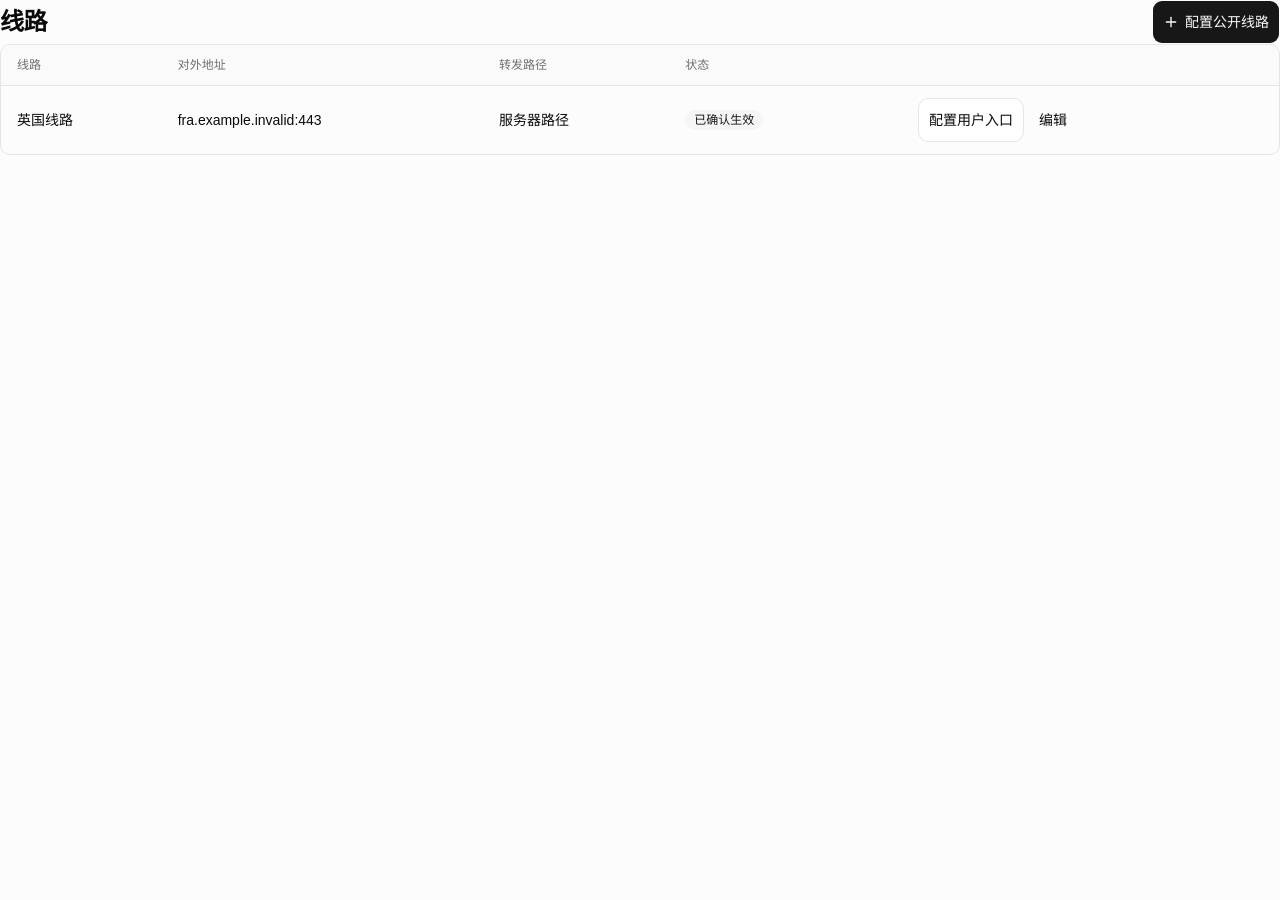
Test case: opens exit replacement from the existing route and restores that context on cancel without revealing intent
The image size is (1280, 900).
Click the button "英国线路": x=45, y=120 [17,110,73,130]
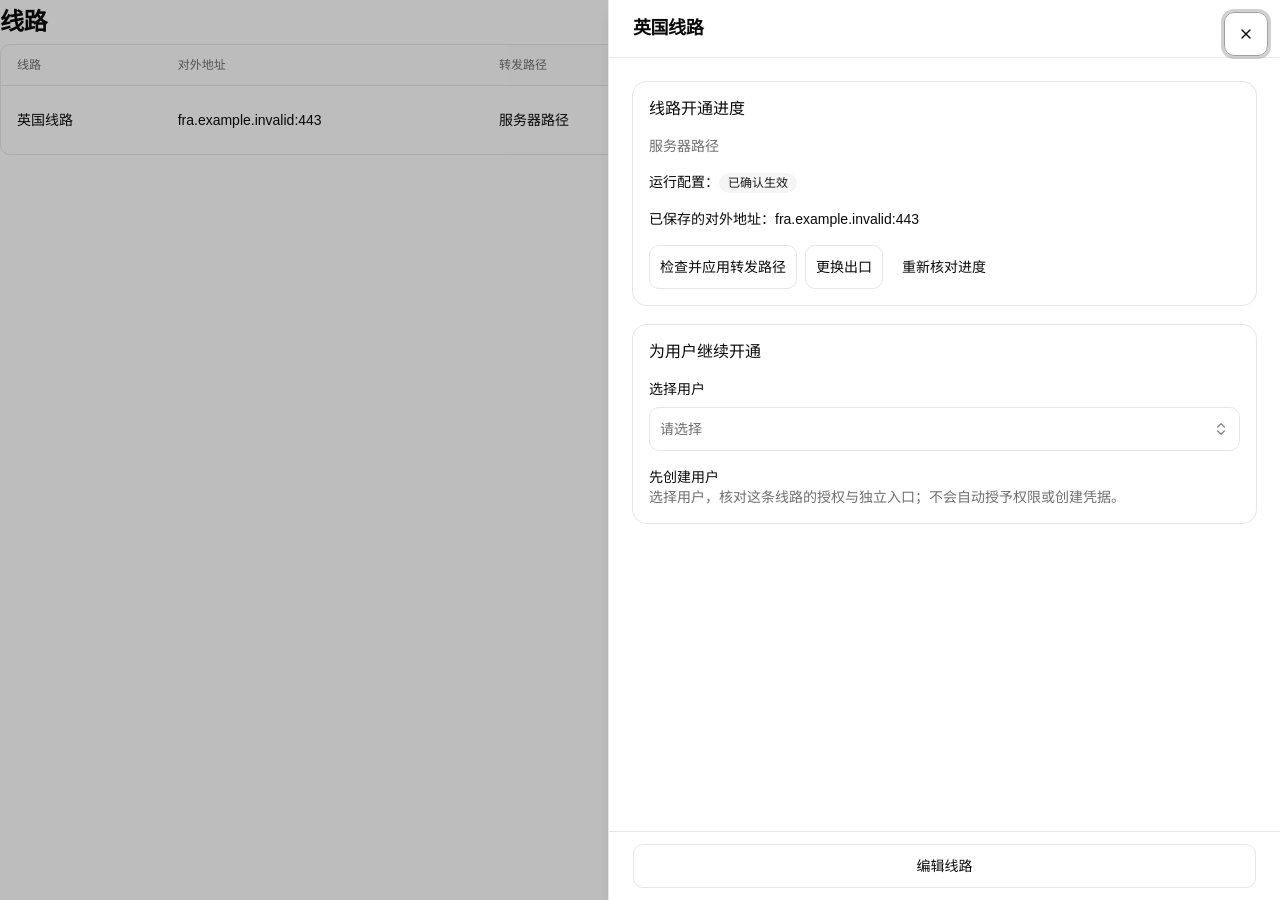
Click the button "更换出口": x=844, y=267 [805,245,883,289]
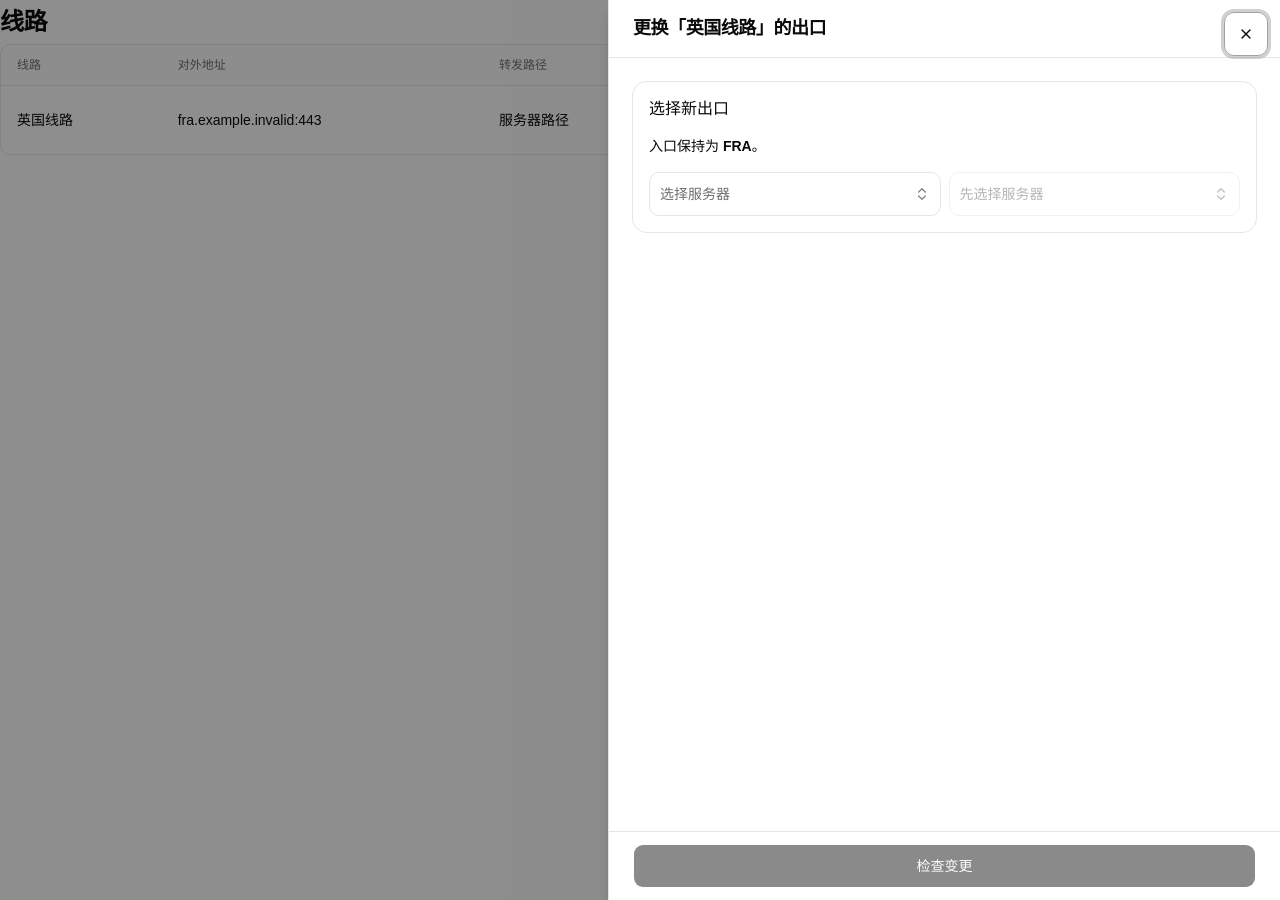
Click the button named "关闭": x=1246, y=34 [1224,12,1268,56]
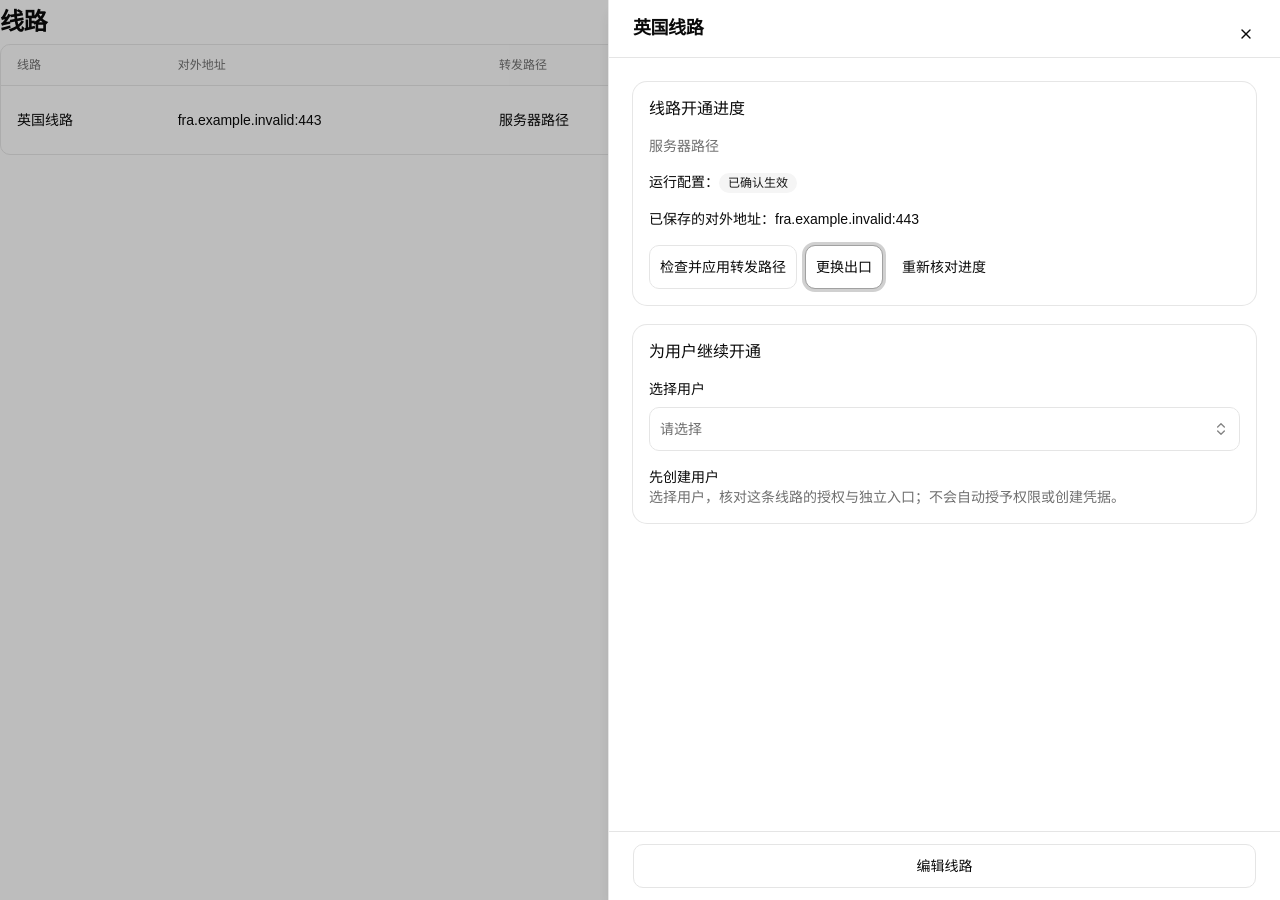
Expected: the heading "更换「英国线路」的出口" is gone
Expected: the number of dialogs "英国线路" is 1, [608,0,1279,899]
